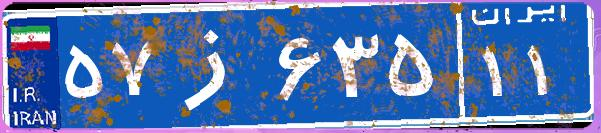1: (475, 38, 525, 113), (525, 38, 570, 115)
3: (330, 28, 385, 110)
5: (385, 28, 445, 110), (57, 26, 110, 107)
6: (273, 28, 330, 110)
7: (110, 28, 158, 105)
ز: (158, 15, 273, 115)
